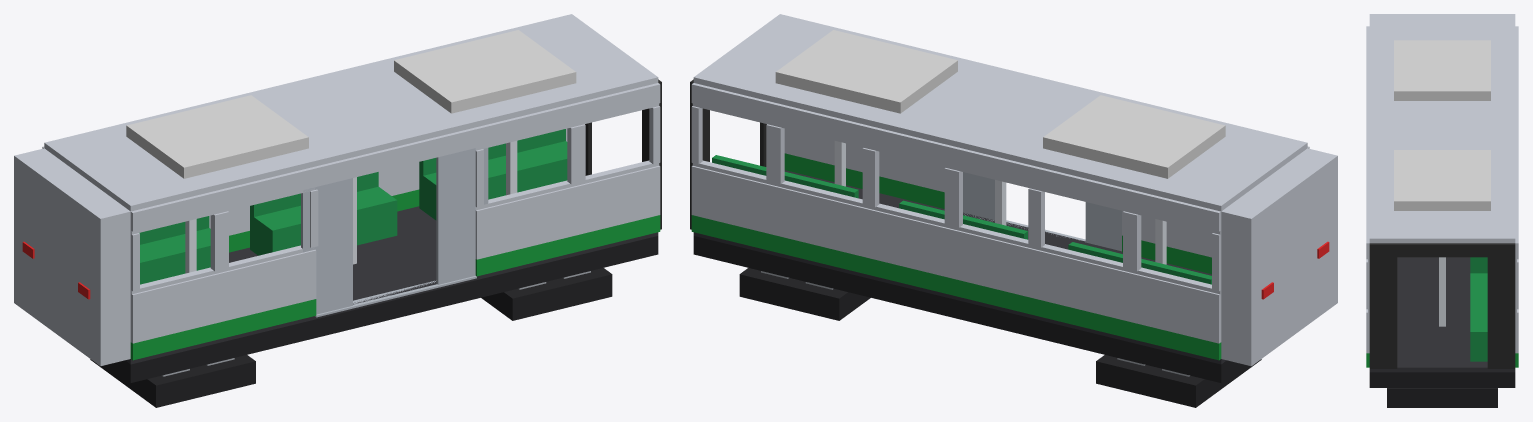
The model's file is metro_wagon_rear_half_l2.obj.
The picture shows the model from 3 angles, left to right: view 1: azimuth 30°, elevation 25°; view 2: azimuth 150°, elevation 25°; view 3: azimuth 270°, elevation 25°; orthographic projection. The views are drawn at different scales.
Size of the model in its own units: 3.16 by 1.26 by 0.88.
